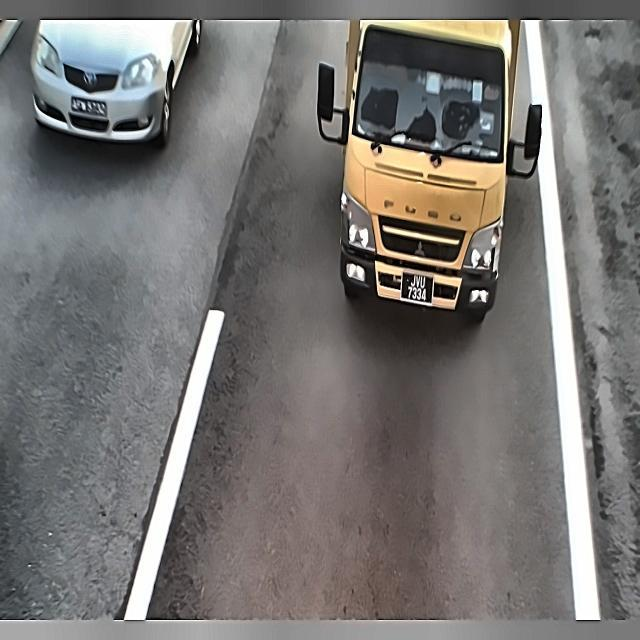car: (397, 265, 438, 313), (67, 93, 108, 124)
